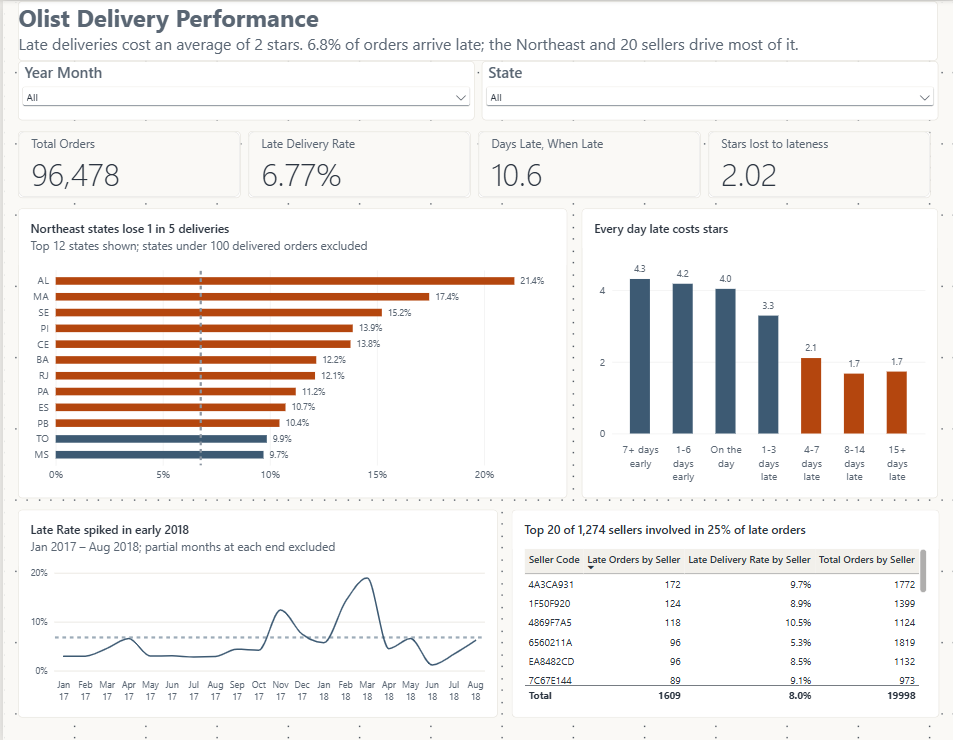

Layout of this report page (visuals, bound fields, positions):
{"tool":"powerbi","page":{"name":"Delivery Performance","canvas":[1280,1000],"ordinal":0},"visuals":[{"type":"cardVisual","fields":{"Data":["_Measures.Total Orders"]},"box":[20,175,300,90],"z":0},{"type":"cardVisual","fields":{"Data":["_Measures.Late Delivery Rate"]},"box":[330,175,300,90],"z":1000},{"type":"cardVisual","fields":{"Data":["_Measures.Avg Days Late When Late"]},"box":[640,175,300,90],"z":2000},{"type":"cardVisual","fields":{"Data":["_Measures.Review Score Gap"]},"box":[950,175,300,90],"z":3000},{"type":"clusteredBarChart","title":"Northeast states lose 1 in 5 deliveries","fields":{"Category":["Customers.State"],"Y":["_Measures.Late Delivery Rate (Min 100 Orders)"]},"box":[20.8,280,740,390],"z":4000},{"type":"clusteredColumnChart","title":"Every day late costs stars","fields":{"Category":["Orders.Lateness Bucket"],"Y":["_Measures.Avg Review Score"]},"box":[780,280,480,390],"z":5000},{"type":"lineChart","title":"Late Rate spiked in early 2018","fields":{"Category":["Date.Month Short"],"Y":["_Measures.Late Delivery Rate"]},"box":[20.8,685,646.4,280],"z":6000},{"type":"tableEx","title":"Top 20 of 1,274 sellers involved in 25% of late orders","fields":{"Values":["Sellers.Seller Code","_Measures.Late Orders by Seller","_Measures.Late Delivery Rate by Seller","_Measures.Total Orders by Seller"]},"box":[684.8,685,576,280],"z":7000},{"type":"slicer","fields":{"Values":["Date.Year Month"]},"box":[20,80,615,80],"z":7001},{"type":"slicer","fields":{"Values":["Customers.State"]},"box":[645,80,615,80],"z":7002},{"type":"textbox","box":[20.2,0,1239.6,80.8],"z":7003}]}

Visuals, with their boxes in screenshot pixels (x1, y1, x2, y2), scaled from the page's 1280x1000 canvas onto the 953x740 screenshot:
cardVisual - _Measures.Total Orders: [15, 130, 238, 196]
cardVisual - _Measures.Late Delivery Rate: [246, 130, 469, 196]
cardVisual - _Measures.Avg Days Late When Late: [476, 130, 700, 196]
cardVisual - _Measures.Review Score Gap: [707, 130, 931, 196]
"Northeast states lose 1 in 5 deliveries" clusteredBarChart: [15, 207, 566, 496]
"Every day late costs stars" clusteredColumnChart: [581, 207, 938, 496]
"Late Rate spiked in early 2018" lineChart: [15, 507, 497, 714]
"Top 20 of 1,274 sellers involved in 25% of late orders" tableEx: [510, 507, 939, 714]
slicer - Date.Year Month: [15, 59, 473, 118]
slicer - Customers.State: [480, 59, 938, 118]
textbox: [15, 0, 938, 60]
